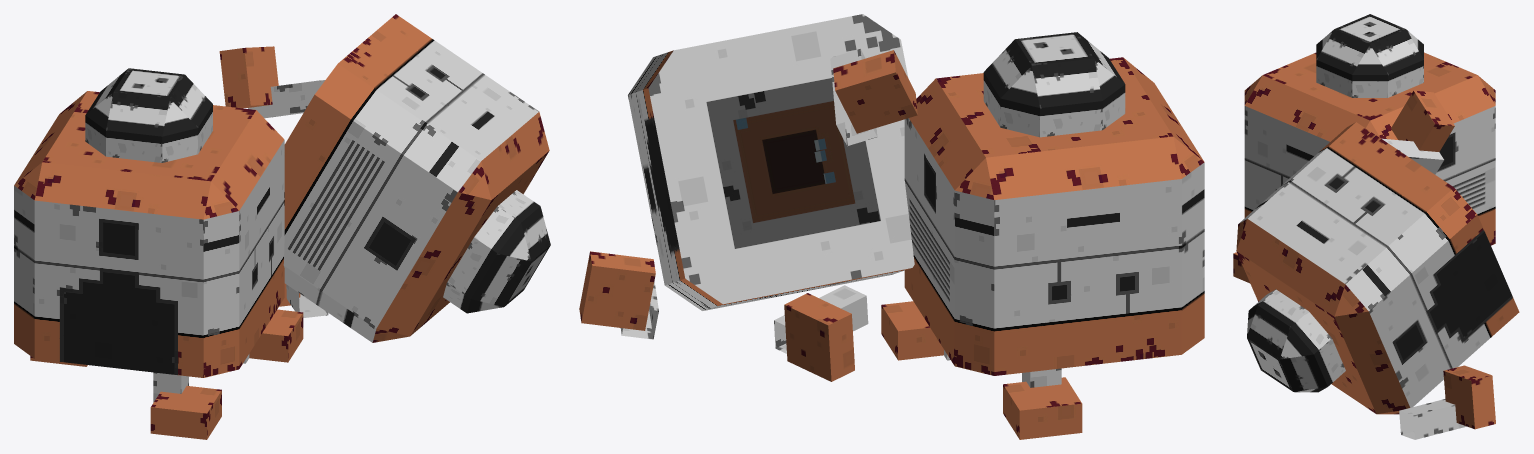
File: C2_Garbage_02-5.FBX
The picture shows the model from 3 angles, left to right: view 1: azimuth 30°, elevation 25°; view 2: azimuth 150°, elevation 25°; view 3: azimuth 270°, elevation 25°; orthographic projection. The views are drawn at different scales.
Visible parts, largest first — view 1: Box003; view 2: Box003; view 3: Box003.
Part boxes in pixels (x1,y1,x2,y2): Box003: [14, 14, 550, 439]; Box003: [579, 14, 1204, 439]; Box003: [1233, 14, 1519, 439].
Bounding box in the file's own units: 239 × 133 × 133.
Materials: 1 (1 with a texture image).
